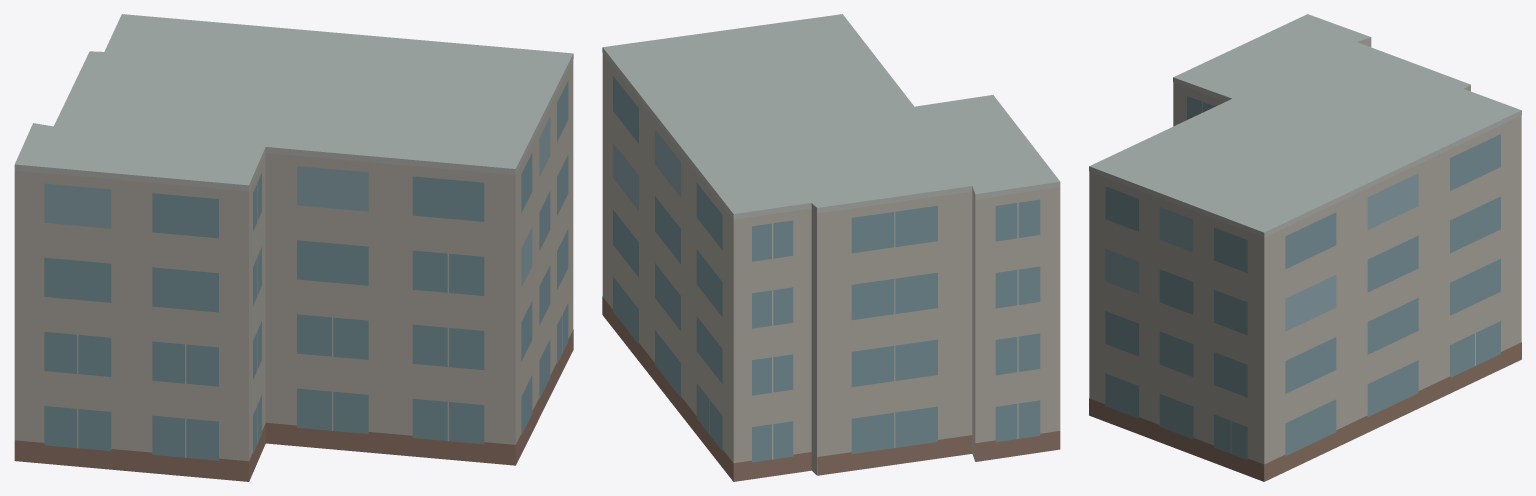
File: survey-upis-32613259.glb
3 renders of one model, left to right at view 1: azimuth 30°, elevation 25°; view 2: azimuth 150°, elevation 25°; view 3: azimuth 270°, elevation 25°, orthographic. The views are drawn at different scales.
Parts seen in each view (by area): view 1: survey-upis-32613259.tmp; view 2: survey-upis-32613259.tmp; view 3: survey-upis-32613259.tmp.
Boxes of the visible parts, x1,y1,x2,y2 form: survey-upis-32613259.tmp: (14, 14, 573, 481); survey-upis-32613259.tmp: (602, 14, 1060, 481); survey-upis-32613259.tmp: (1089, 14, 1521, 481).
Bounding box in the file's own units: 22.58 × 12 × 18.88.
